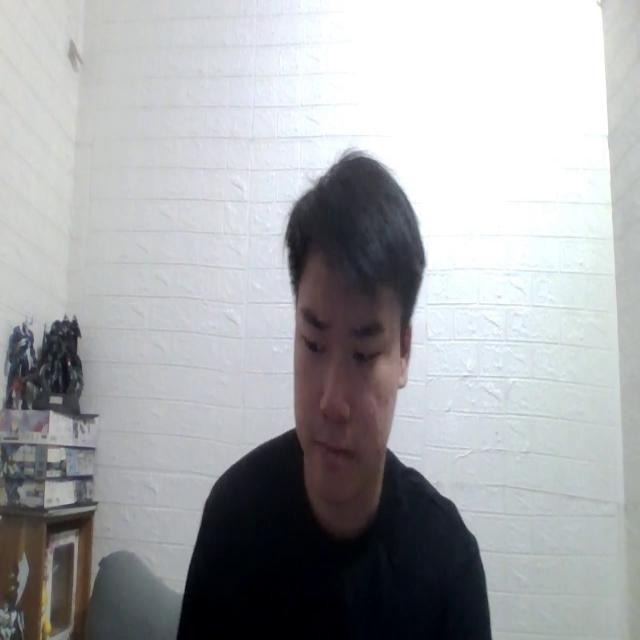student: (174, 148, 492, 640)
